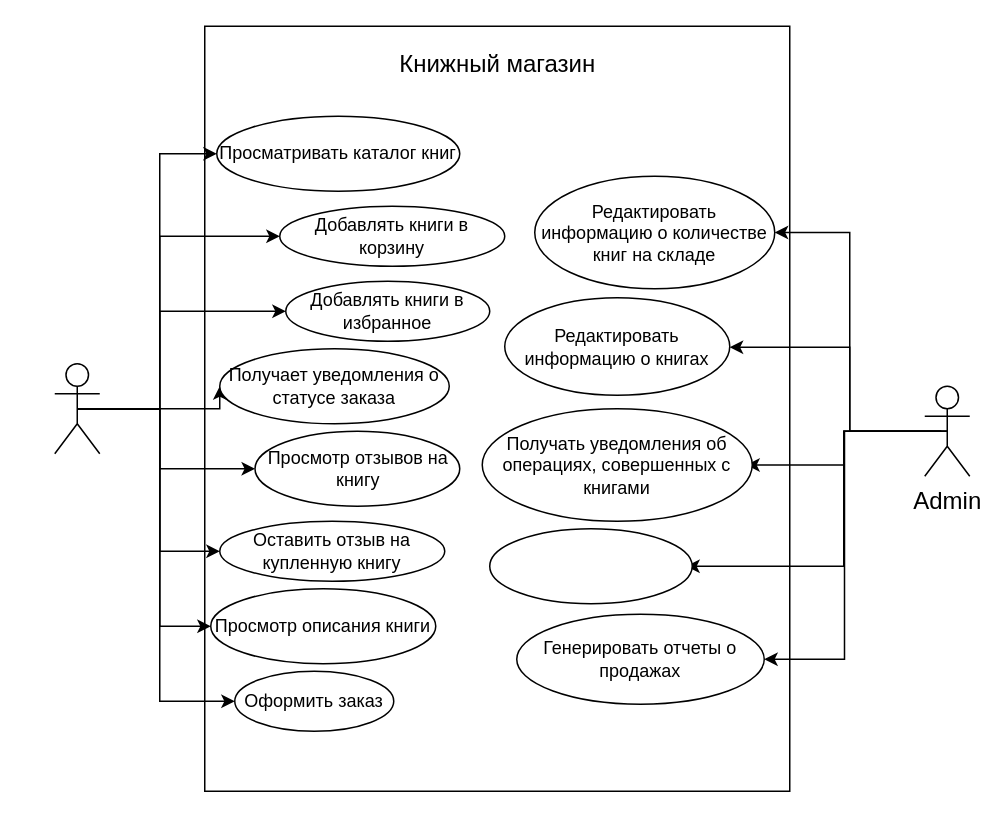
The diagram is 1007 pixels wide and 818 high, and some of its shapes have lost their labels. The centre of each missing label's shape, as x and y in pixels:
"Customer" goes at point 76,408.
"Изменять статус заказа" goes at point 590,565.
